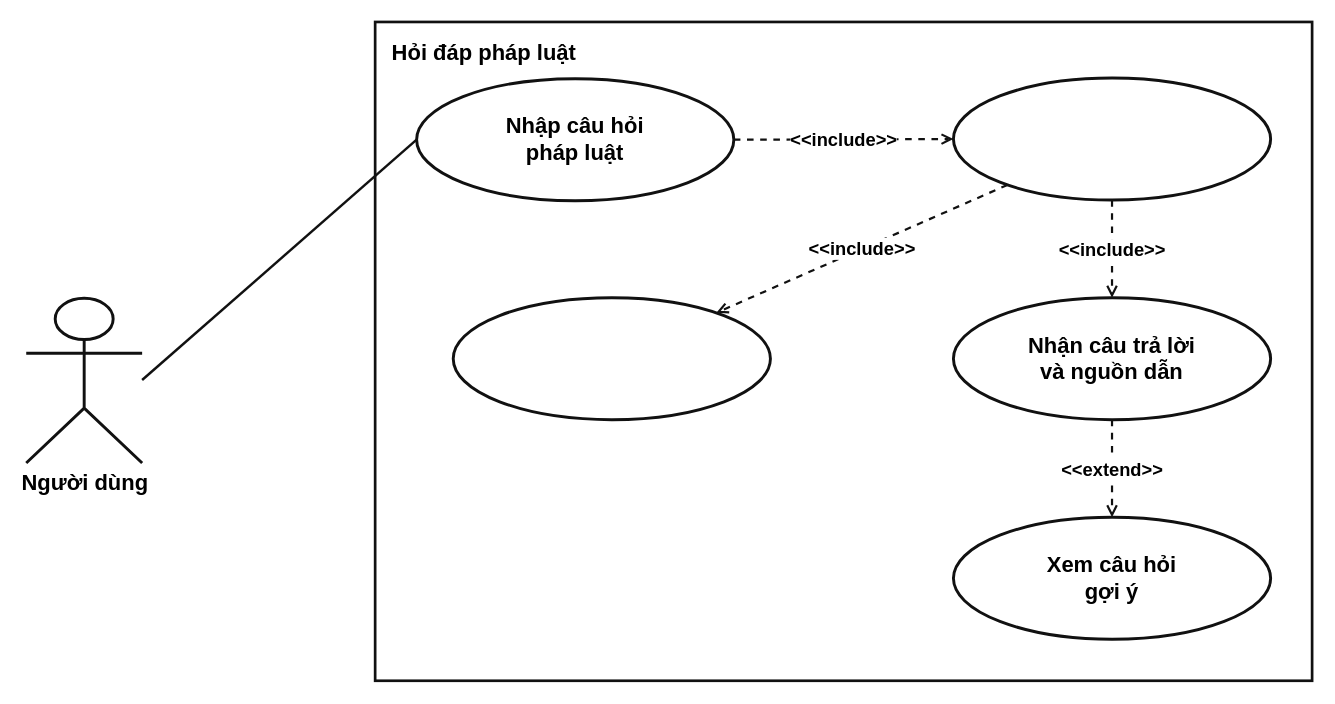
The diagram is 1335 pixels wide and 704 high, and some of its shapes have lost their labels. The centre of each missing label's shape, as x and y in pixels:
Gửi tin nhắn qua chat: the point at 1111,138
Theo dõi tiến trình SSE: the point at 611,358
